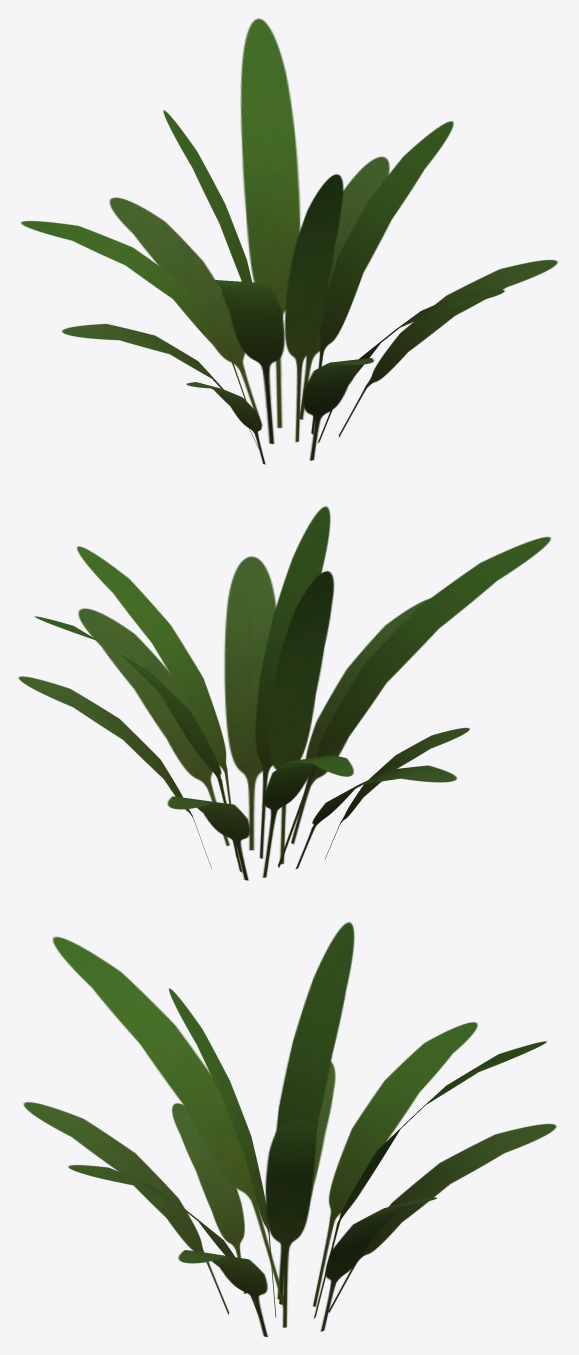
The model's file is plant_02.glb.
3 renders of one model, top to bottom at view 1: azimuth 30°, elevation 25°; view 2: azimuth 150°, elevation 25°; view 3: azimuth 270°, elevation 25°, orthographic. The views are drawn at different scales.
Visible parts, largest first — view 1: SM_Plant_02_LOD0; view 2: SM_Plant_02_LOD0; view 3: SM_Plant_02_LOD0.
Part boxes in pixels (box(x1,y1,x2,y2)): SM_Plant_02_LOD0: box(21, 18, 557, 464); SM_Plant_02_LOD0: box(18, 506, 550, 880); SM_Plant_02_LOD0: box(23, 922, 556, 1336).
Size of what is drawn, in the model's own units: 0.00463 by 0.0033 by 0.00473.
Materials: 1 (1 with a texture image).
